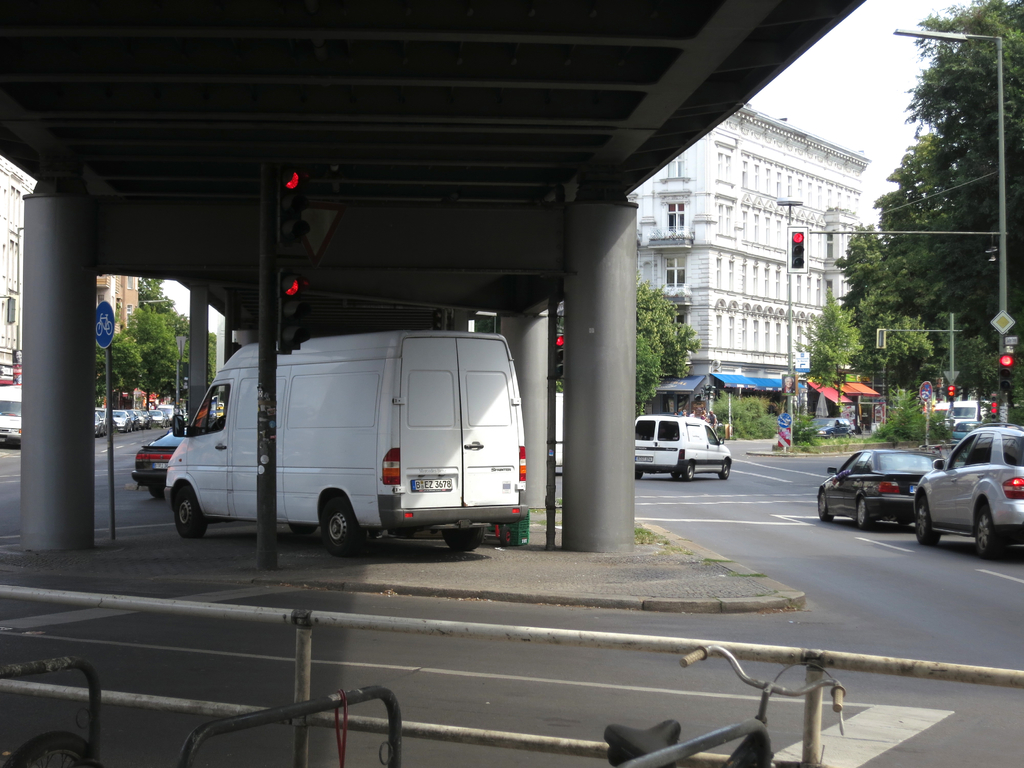Car: (886, 419, 1024, 562), (817, 454, 939, 529), (133, 430, 185, 497)
